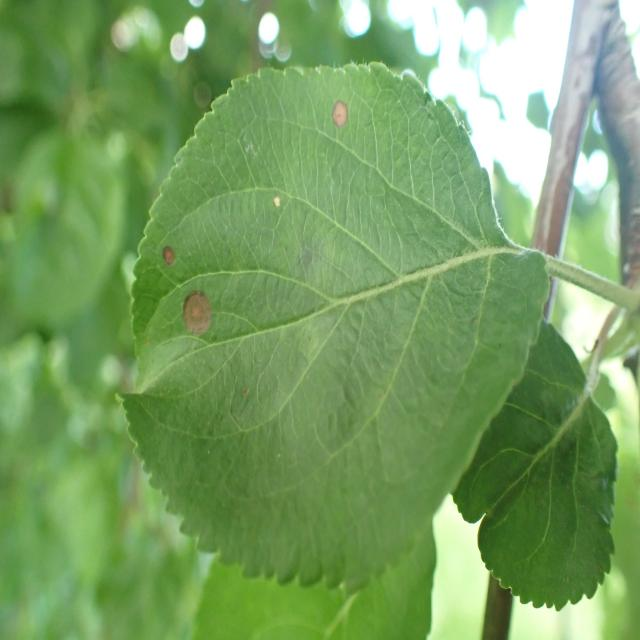Black Rot: (326, 85, 366, 168), (180, 277, 213, 353), (160, 236, 180, 273)
